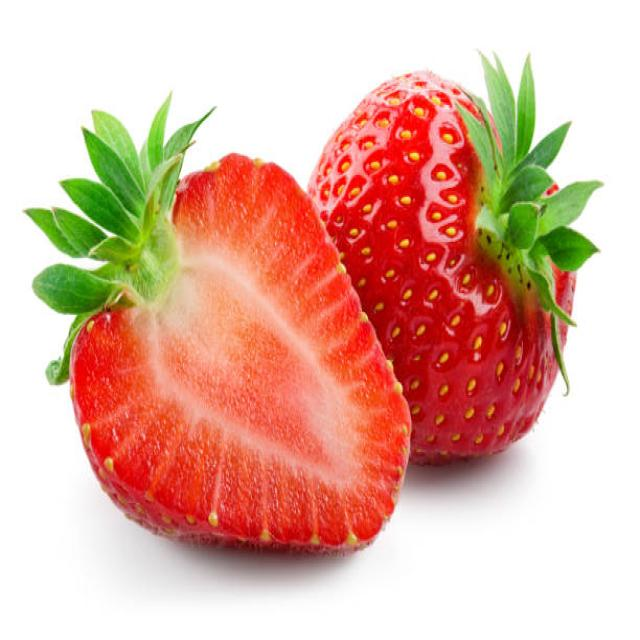Healthy Fruit: (67, 152, 414, 559), (302, 70, 577, 462)
